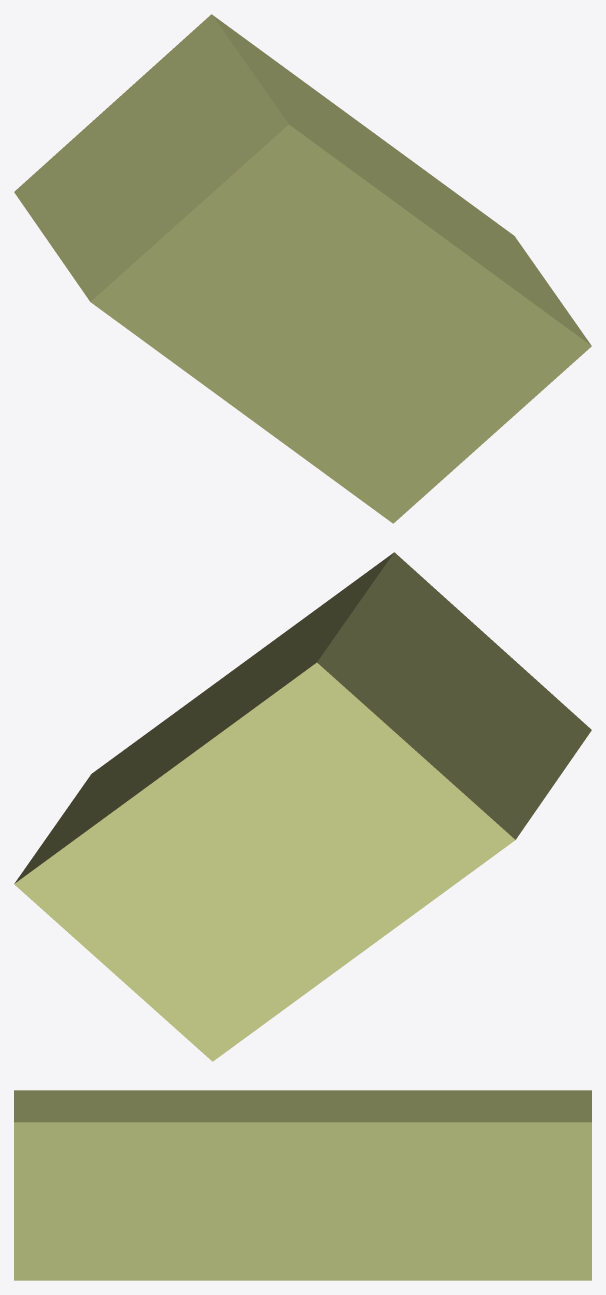
3 renders of one model, top to bottom at view 1: azimuth 30°, elevation 25°; view 2: azimuth 150°, elevation 25°; view 3: azimuth 270°, elevation 25°, orthographic. The views are drawn at different scales.
Visible parts, largest first — view 1: 0_1_2_0_0_2_1_0_2_0_2; view 2: 0_1_2_0_0_2_1_0_2_0_2; view 3: 0_1_2_0_0_2_1_0_2_0_2.
Part boxes in pixels (<box>): 0_1_2_0_0_2_1_0_2_0_2: <box>14,14,591,523</box>; 0_1_2_0_0_2_1_0_2_0_2: <box>14,552,591,1061</box>; 0_1_2_0_0_2_1_0_2_0_2: <box>14,1090,591,1280</box>.
Bounding box in the file's own units: 4.72 × 4.23 × 9.
